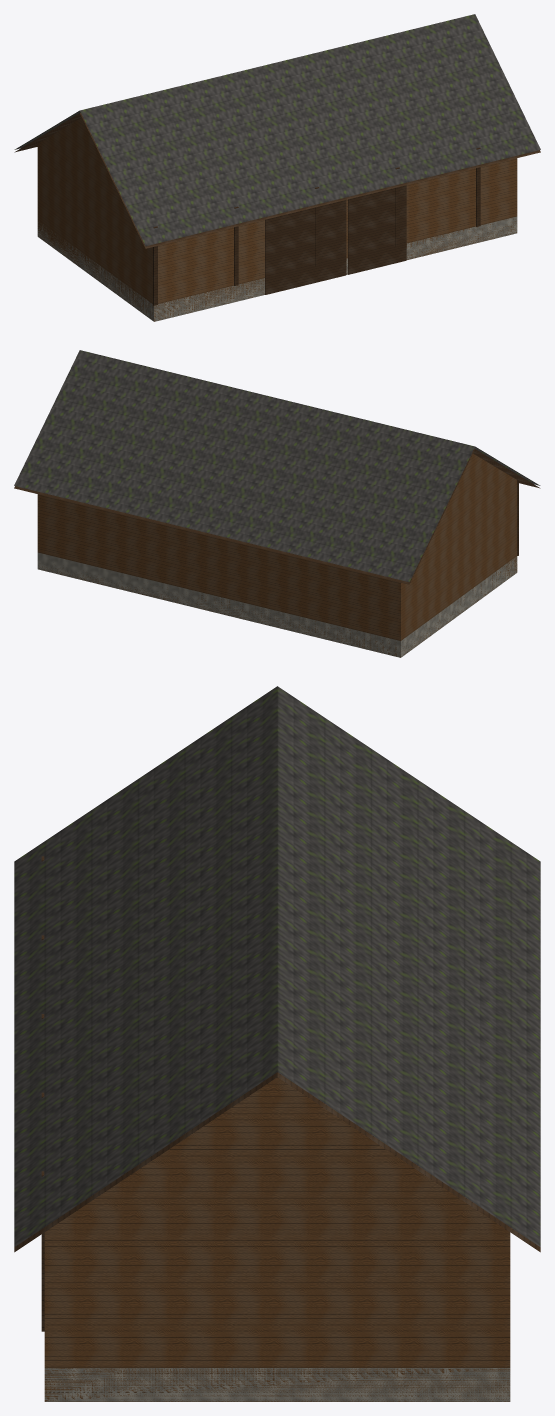
Rendered from barn.glb.
3 renders of one model, top to bottom at view 1: azimuth 30°, elevation 25°; view 2: azimuth 150°, elevation 25°; view 3: azimuth 270°, elevation 25°, orthographic. The views are drawn at different scales.
Parts seen in each view (by area): view 1: barn; view 2: barn; view 3: barn.
Boxes of the visible parts, x1=… form: barn: x1=14, y1=14, x2=540, y2=321; barn: x1=14, y1=350, x2=540, y2=657; barn: x1=14, y1=686, x2=540, y2=1401.
Size of the model in its own units: 19.6 by 8.18 by 11.29.
Materials: 4 (4 with a texture image).
